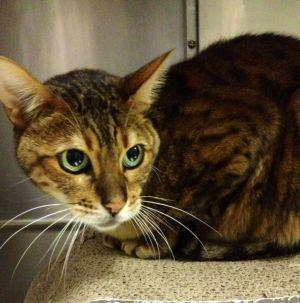bengal: (1, 31, 177, 234)
